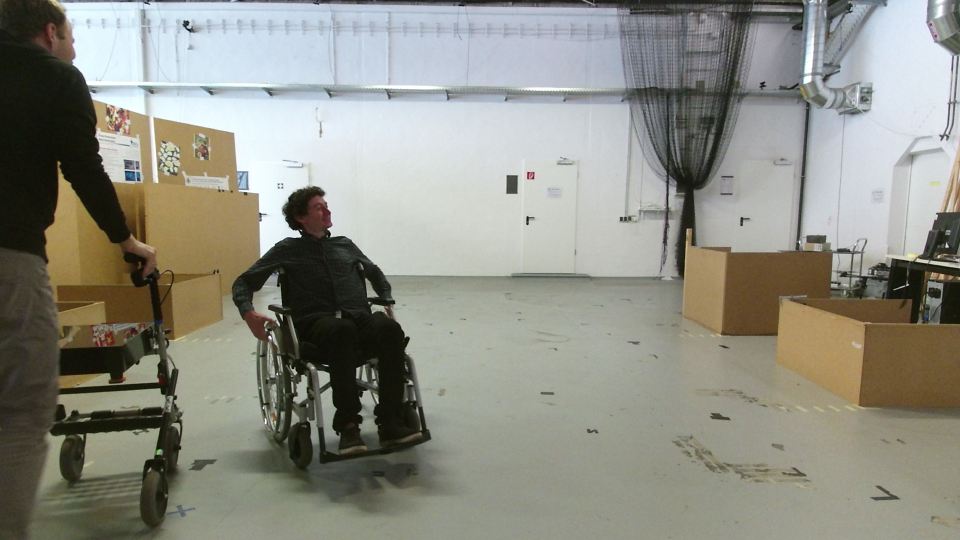wheelchair: (231, 177, 437, 467)
